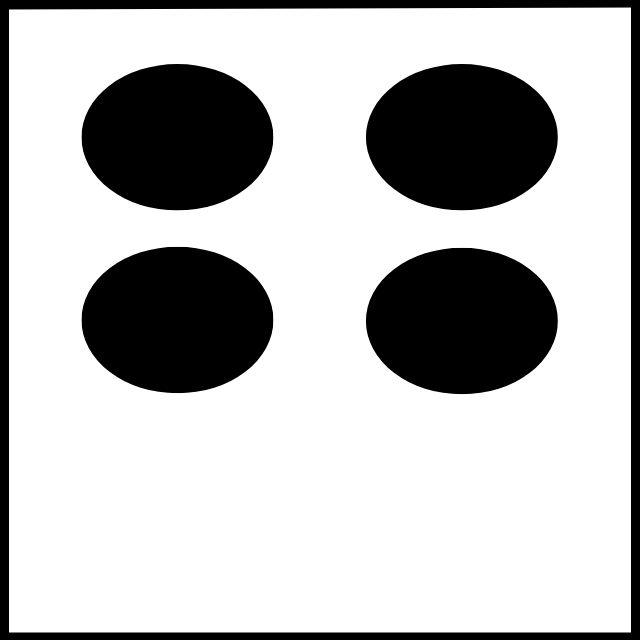ganoon: (81, 61, 558, 589)
